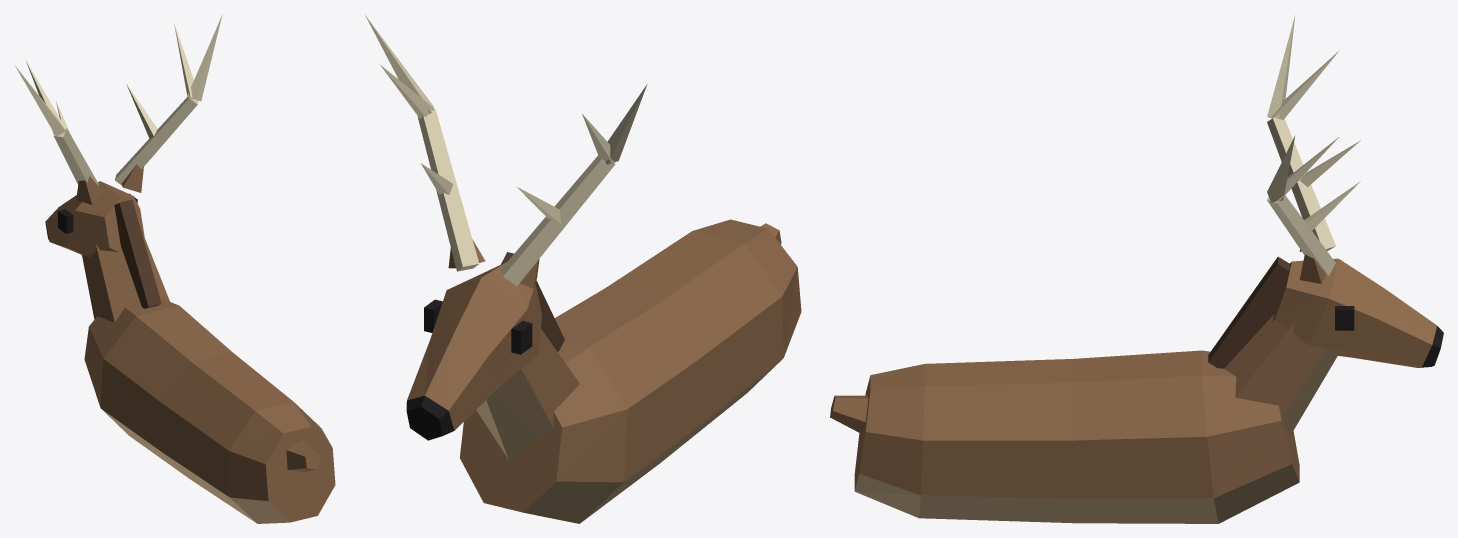
The model's file is animal_elk.obj.
3 renders of one model, left to right at view 1: azimuth 30°, elevation 25°; view 2: azimuth 150°, elevation 25°; view 3: azimuth 270°, elevation 25°, orthographic. The views are drawn at different scales.
Visible parts, largest first — view 1: animal_elk; view 2: animal_elk; view 3: animal_elk.
Boxes of the visible parts, left/top/right/bottom form: animal_elk: left=15, top=15, right=335, bottom=523; animal_elk: left=365, top=15, right=801, bottom=523; animal_elk: left=830, top=15, right=1443, bottom=523.
Size of the model in its own units: 0.781 by 1.32 by 1.68.
